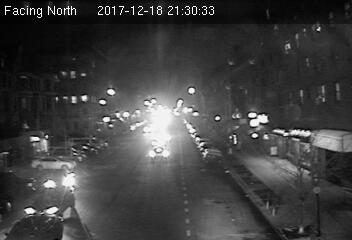car: (24, 186, 79, 218), (147, 145, 172, 161)
